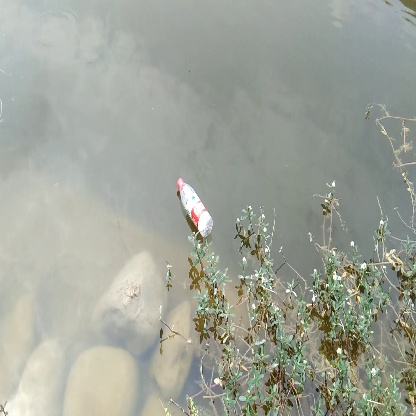bottle: (174, 175, 215, 241)
